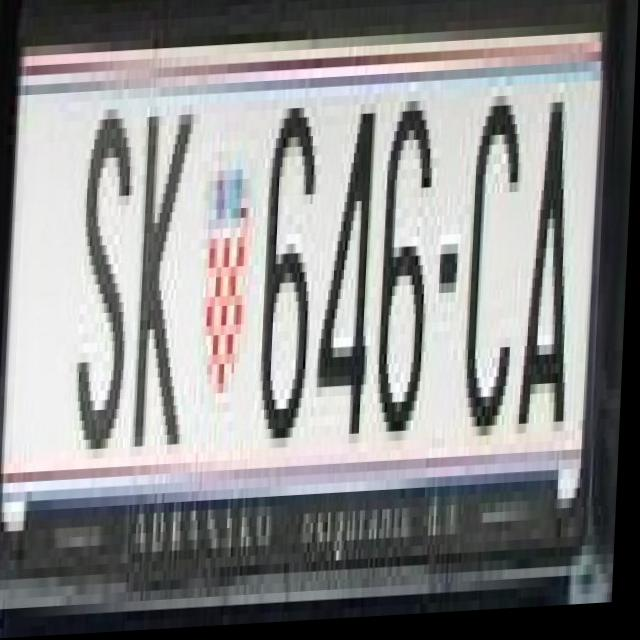4: (314, 89, 380, 450)
6: (375, 86, 437, 447), (263, 101, 323, 443)
A: (516, 79, 587, 431)
C: (460, 92, 527, 472)
K: (132, 97, 195, 449)
S: (75, 100, 134, 461)
